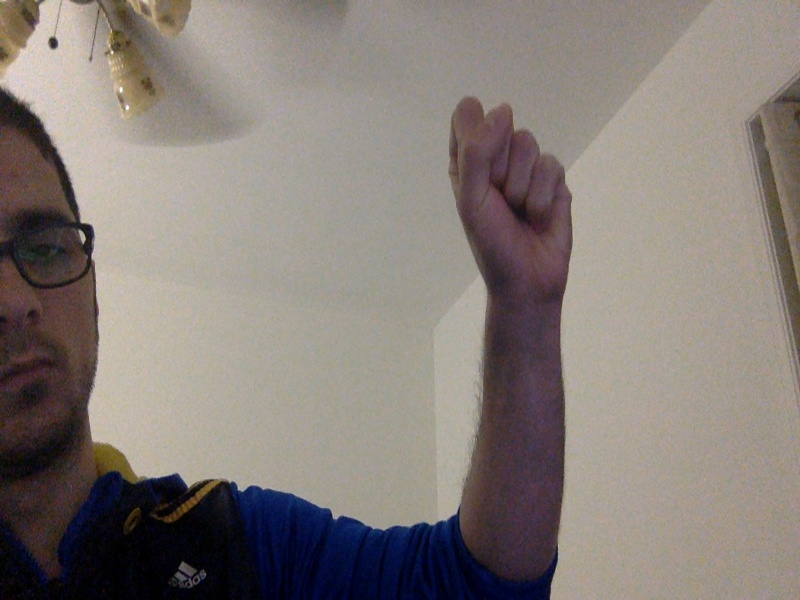0-hand: (448, 99, 573, 290)
